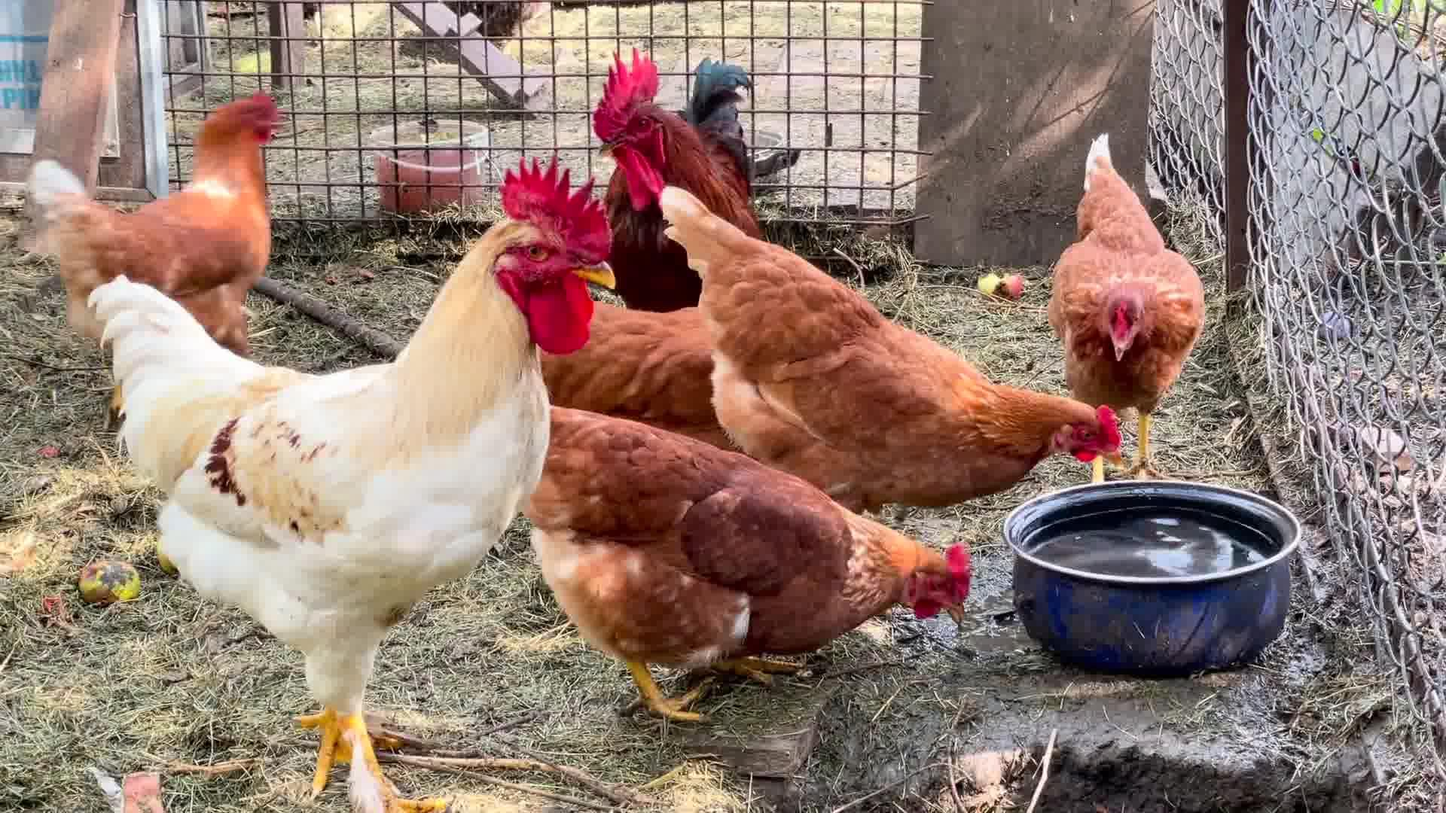Normal: (74, 164, 616, 813), (665, 190, 1129, 509), (552, 394, 984, 730), (23, 81, 301, 395), (571, 36, 784, 313), (1045, 119, 1195, 511)
